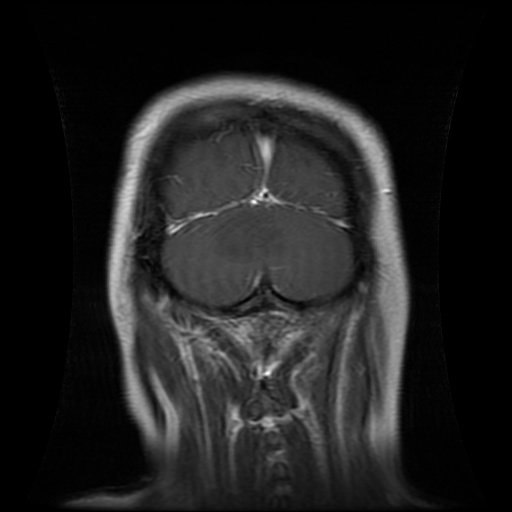glioma: (212, 204, 289, 264)
